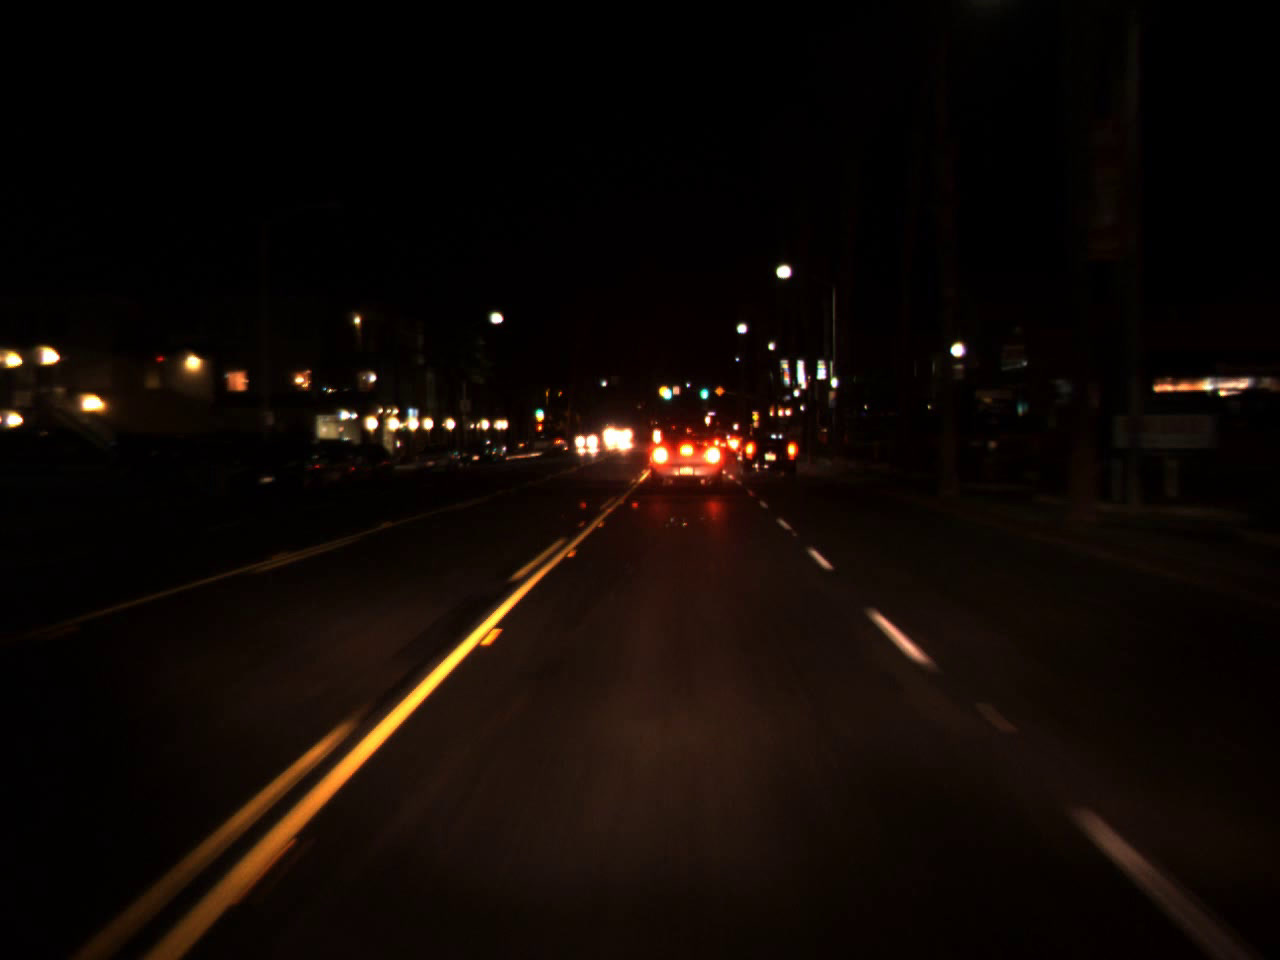go: (697, 378, 709, 402), (658, 378, 670, 402), (533, 403, 543, 415)
